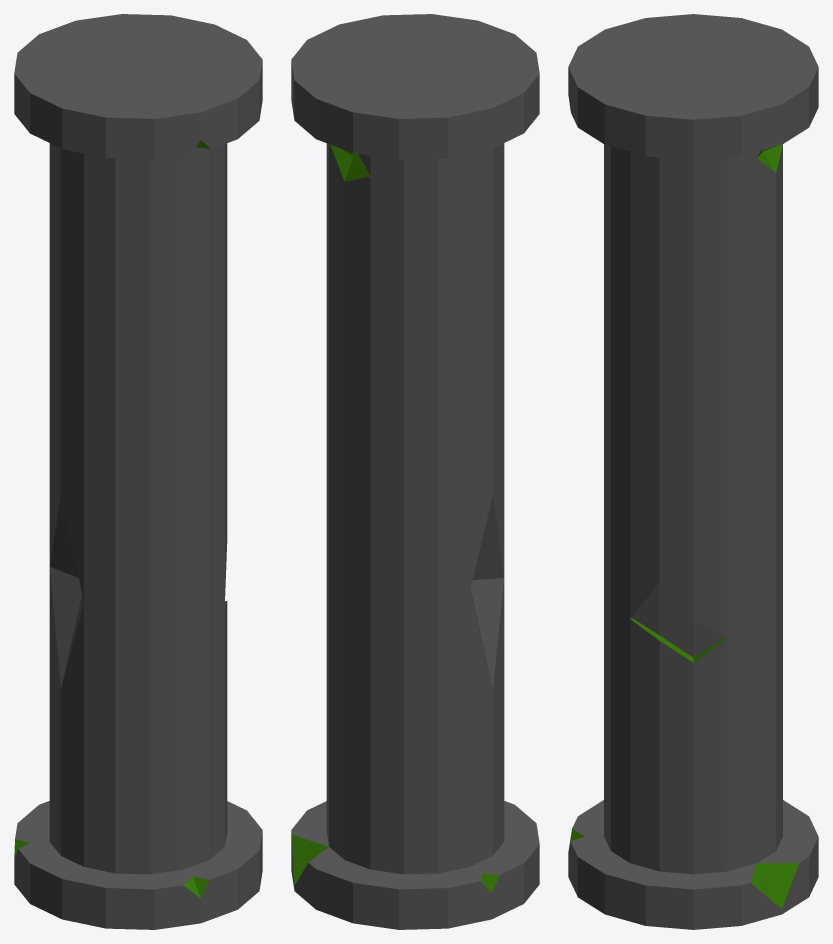
The model's file is RuinsColumn.glb.
The picture shows the model from 3 angles, left to right: view 1: azimuth 30°, elevation 25°; view 2: azimuth 150°, elevation 25°; view 3: azimuth 270°, elevation 25°; orthographic projection.
Visible parts, largest first — view 1: Column; view 2: Column; view 3: Column.
Boxes of the visible parts, box(x1,y1,x2,y2) form: Column: box(14, 14, 262, 929); Column: box(291, 14, 539, 929); Column: box(568, 14, 818, 929).
Size of the model in its own units: 1.4 by 5 by 1.4.
Materials: 1 (1 with a texture image).
